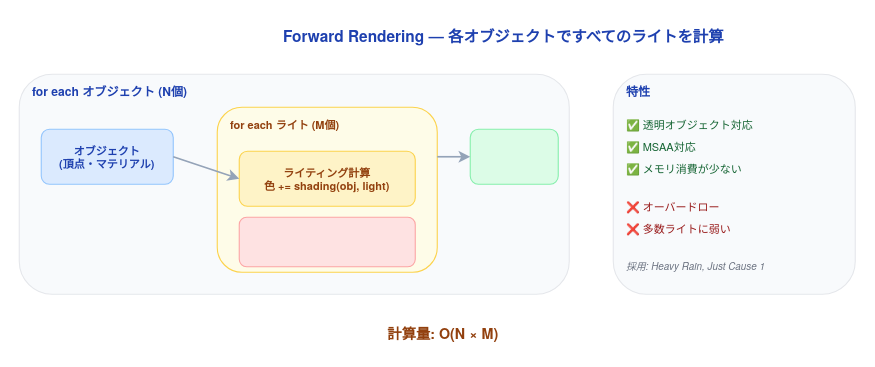
The diagram is 875 pixels wide and 367 high, and some of its shapes have lost their labels. The shapes that lost their labels are listed below. From the top down, each one's box as (x1, y1, x2, y2) in pixels, then its label:
(469, 128, 558, 184): フレーム バッファに 書き込み
(238, 216, 415, 267): ⚠ 見えないピクセルも 計算してしまう （オーバードロー）
